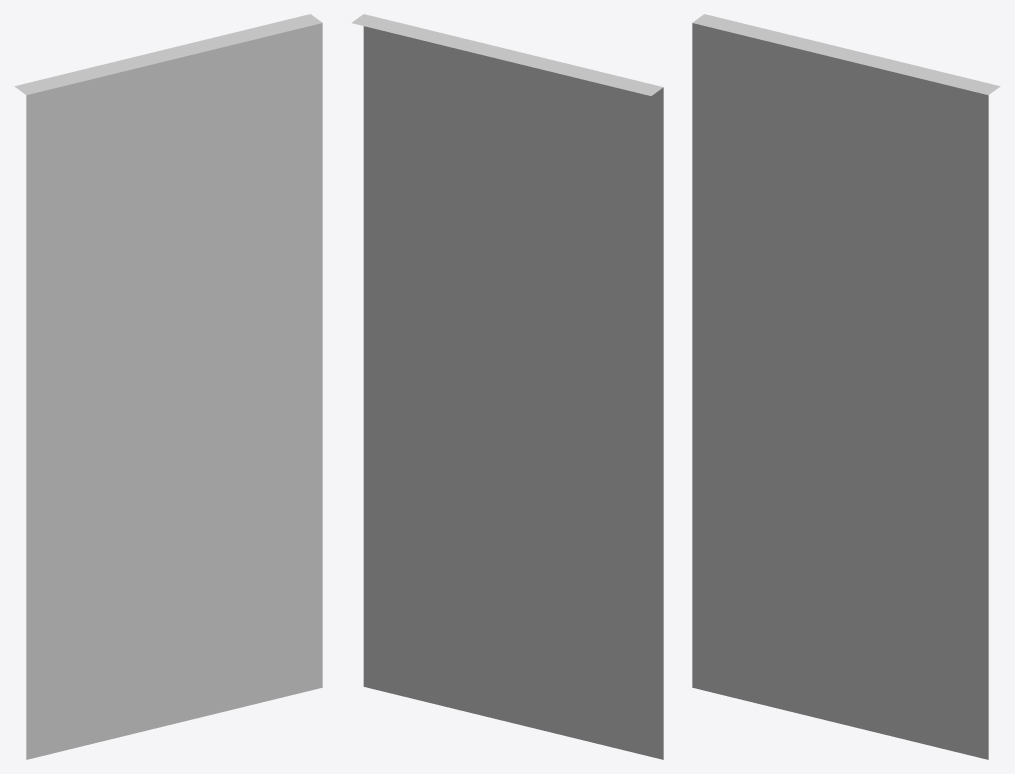
The model's file is M_Wall350x750White80.FBX.
3 renders of one model, left to right at view 1: azimuth 30°, elevation 25°; view 2: azimuth 150°, elevation 25°; view 3: azimuth 330°, elevation 25°, orthographic.
Parts seen in each view (by area): view 1: M_Wall350x750White80; view 2: M_Wall350x750White80; view 3: M_Wall350x750White80.
Part boxes in pixels (x1=…): M_Wall350x750White80: x1=14, y1=14, x2=322, y2=759; M_Wall350x750White80: x1=352, y1=14, x2=663, y2=759; M_Wall350x750White80: x1=692, y1=14, x2=1000, y2=759.
Bounding box in the file's own units: 3.5 × 7.5 × 0.25.
